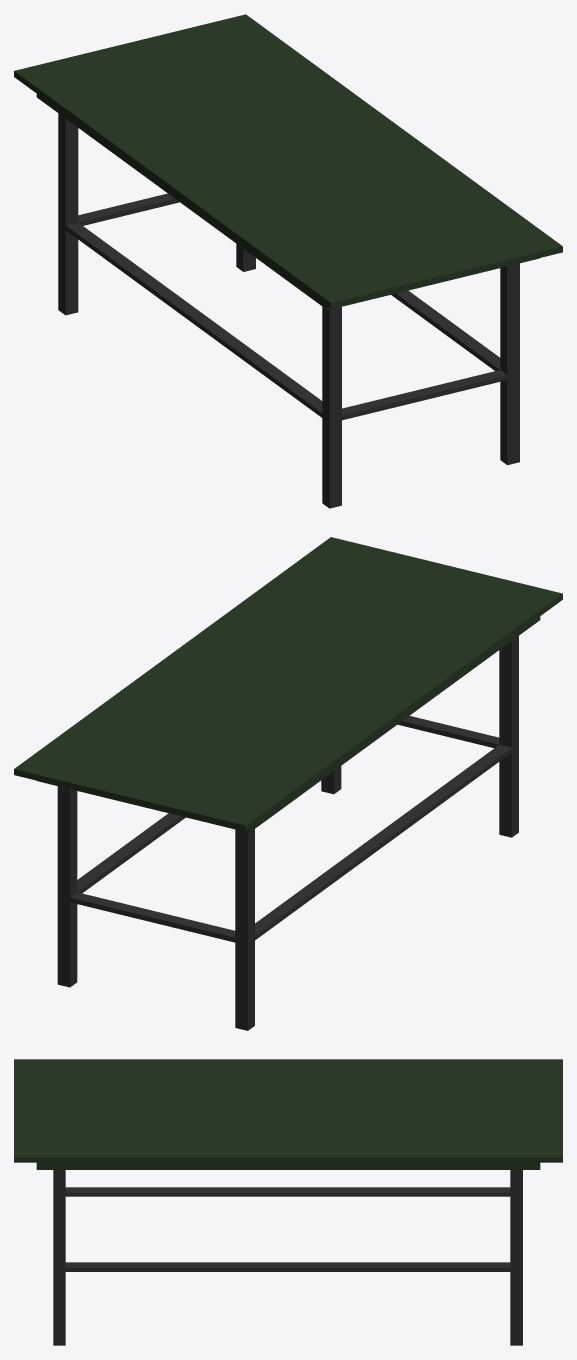
File: Table.fbx
The picture shows the model from 3 angles, top to bottom: view 1: azimuth 30°, elevation 25°; view 2: azimuth 150°, elevation 25°; view 3: azimuth 270°, elevation 25°; orthographic projection. The views are drawn at different scales.
Parts seen in each view (by area): view 1: TableTop, MetalFrame; view 2: TableTop, MetalFrame; view 3: TableTop, MetalFrame.
Boxes of the visible parts, x1,y1,x2,y2 form: TableTop: (14,14,562,310); MetalFrame: (58,113,519,508); TableTop: (14,537,562,832); MetalFrame: (57,636,518,1030); TableTop: (14,1059,562,1169); MetalFrame: (53,1170,522,1345).
Size of the model in its own units: 253 by 237 by 598.
